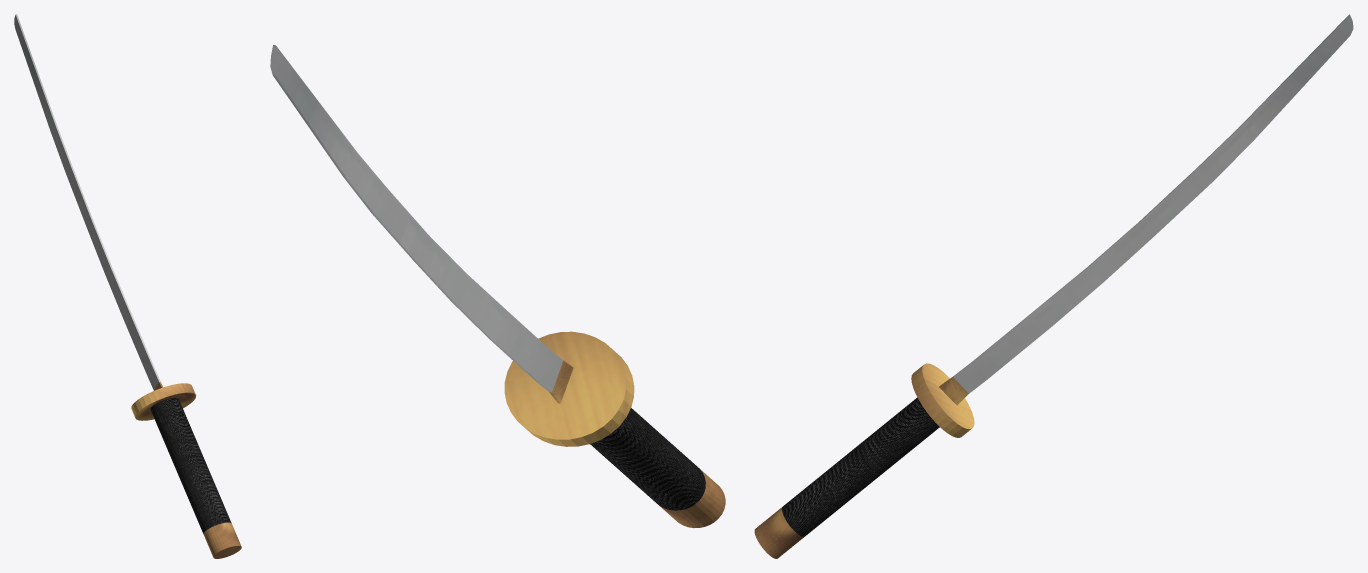
File: katanna.fbx
3 views of the same model, side by side, from view 1: azimuth 30°, elevation 25°; view 2: azimuth 150°, elevation 25°; view 3: azimuth 270°, elevation 25° (orthographic). The views are drawn at different scales.
Parts seen in each view (by area): view 1: Cylinder; view 2: Cylinder; view 3: Cylinder.
Boxes of the visible parts, x1=… form: Cylinder: x1=14, y1=14, x2=241, y2=558; Cylinder: x1=270, y1=45, x2=725, y2=527; Cylinder: x1=754, y1=14, x2=1353, y2=558.
Size of the model in its own units: 70.54 by 455 by 457.
